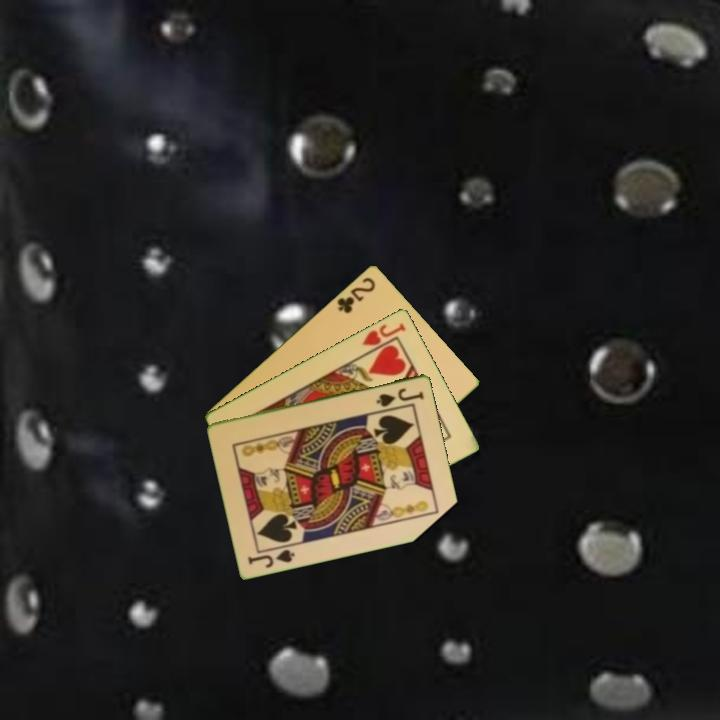2c: (333, 273, 378, 316)
Jh: (359, 319, 409, 358)
Js: (373, 384, 426, 409), (245, 545, 298, 570)
